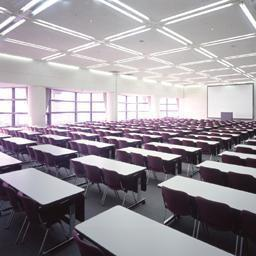Ventana: (50, 92, 106, 123), (119, 95, 152, 121), (5, 90, 30, 123), (159, 99, 180, 119)
